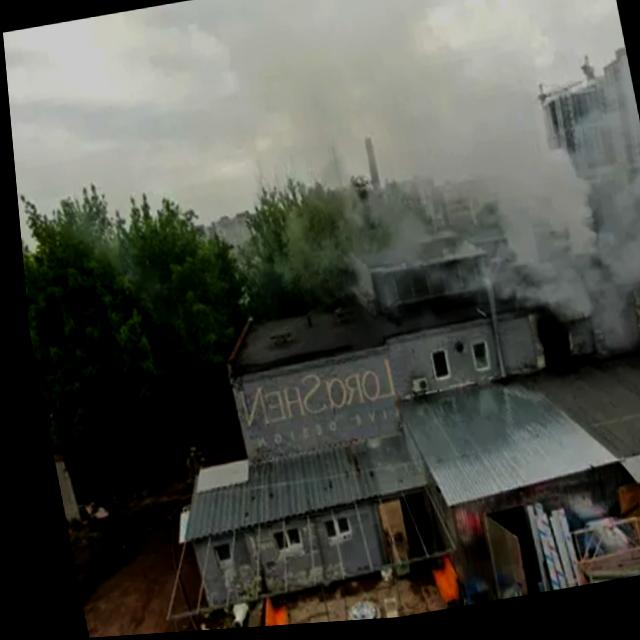no_helmet: (404, 0, 640, 351)
